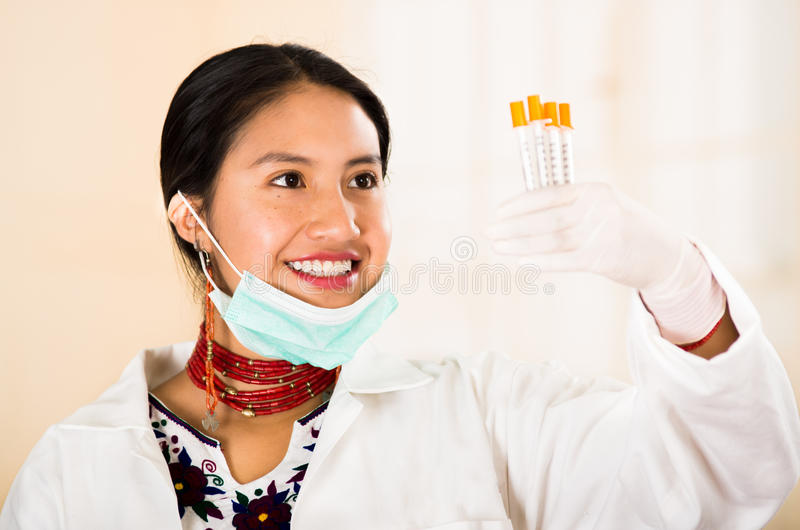mask_weared_incorrect: (244, 141, 392, 350)
